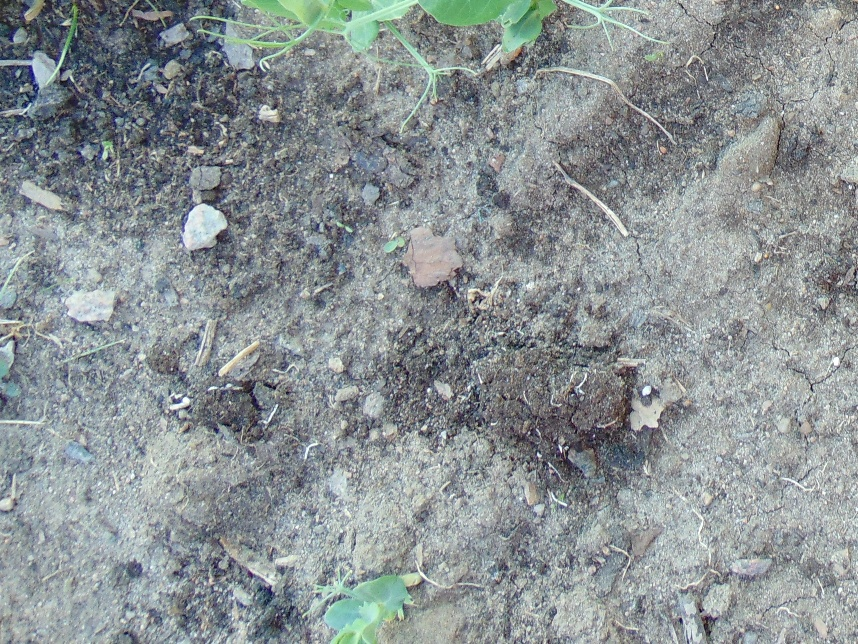crop: (204, 1, 642, 87), (304, 565, 410, 644)
